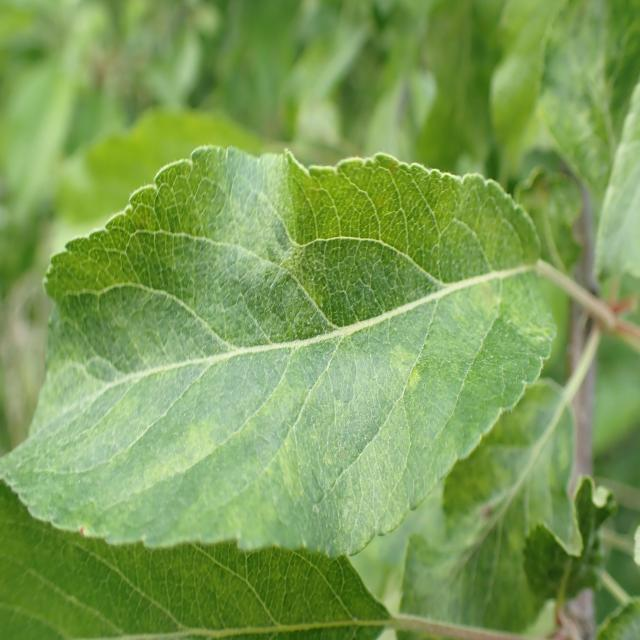scab: (82, 254, 549, 497)
